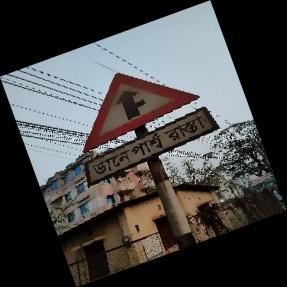Side-road-right: (78, 72, 212, 199)
